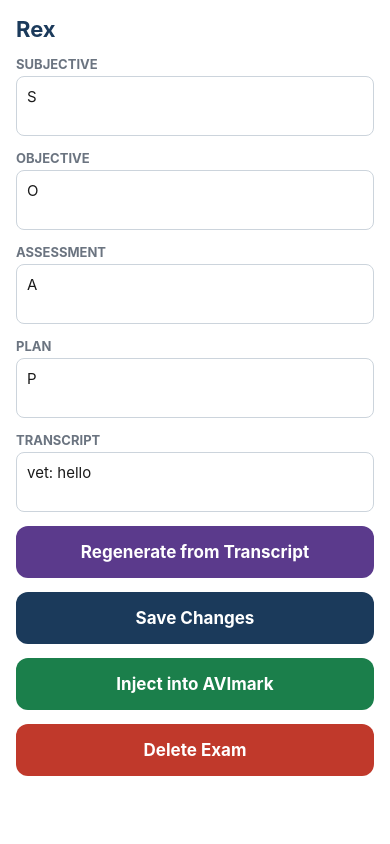
Scenario: ExamEditor › saves edited fields back to the backend and confirms
The image size is (390, 844).
Replace the text in the text box with test id "field-assessment" with "kennel cough" at (195, 294), box left=16, top=264, right=374, bottom=324
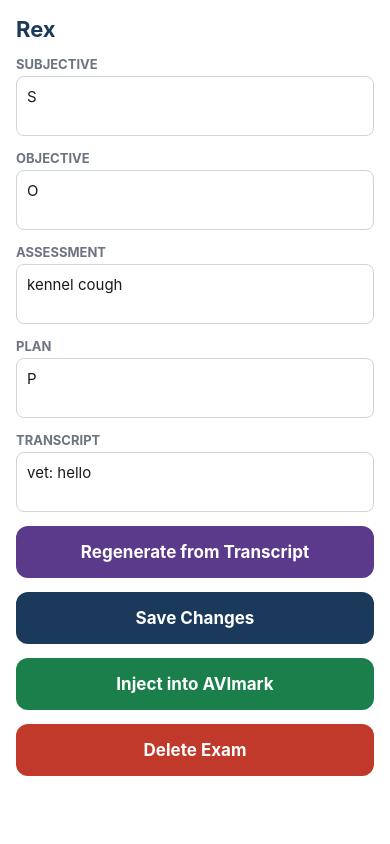
Click the button "Save Changes" at (195, 618), box left=16, top=592, right=374, bottom=644
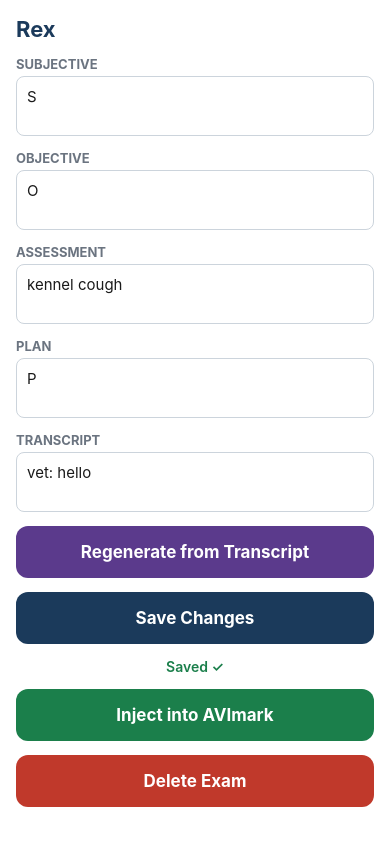
Now the text "Saved ✓" is shown, box left=166, top=658, right=224, bottom=675
